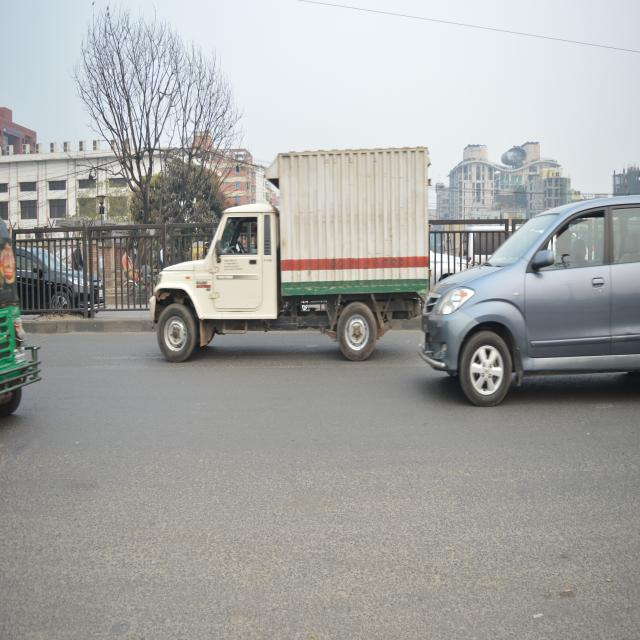car: (422, 208, 640, 406), (13, 238, 114, 327)
pickup-van: (140, 118, 438, 383)
